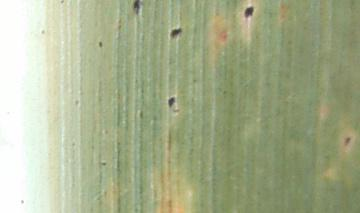tarspot: (170, 27, 182, 41), (133, 1, 142, 16), (244, 6, 254, 19), (168, 95, 177, 109), (137, 110, 145, 119), (344, 136, 351, 146), (39, 28, 46, 36), (101, 160, 108, 167), (98, 41, 103, 49), (20, 198, 25, 205), (75, 98, 79, 106), (59, 1, 65, 5)
